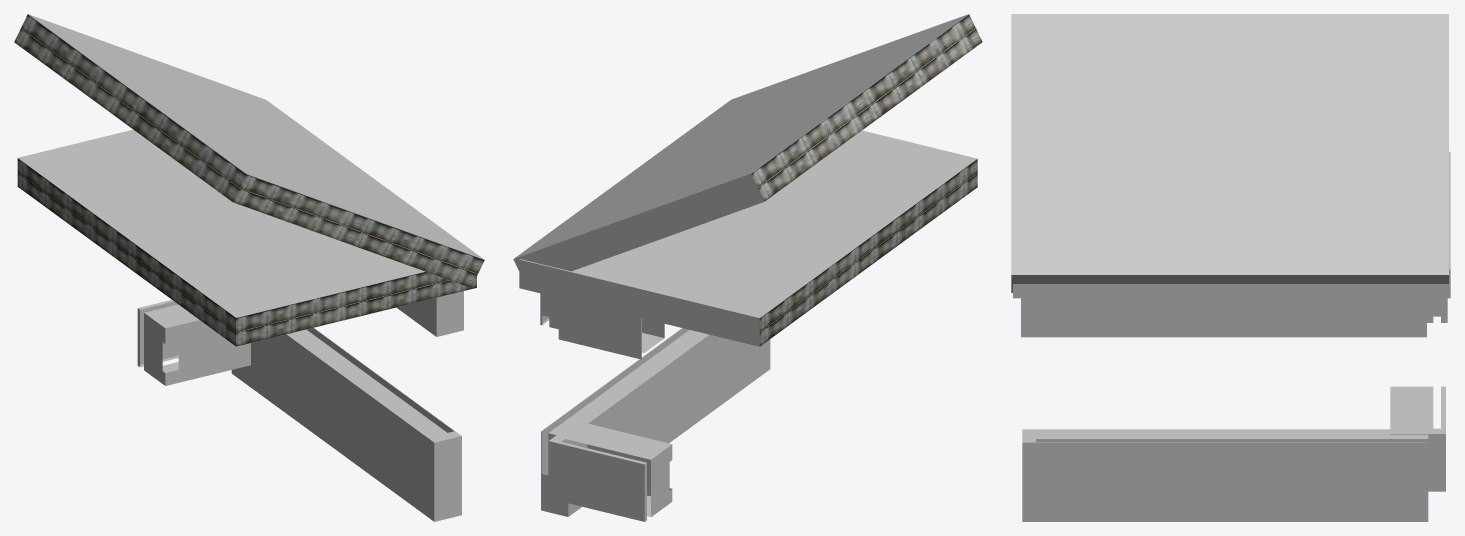
Rendered from room1.fbx.
3 views of the same model, side by side, from view 1: azimuth 30°, elevation 25°; view 2: azimuth 150°, elevation 25°; view 3: azimuth 270°, elevation 25° (orthographic).
Visible parts, largest first — view 1: Roof, Roof_37, WindowLedge, WindowStud_23, WindowStud; view 2: Roof, Roof_37, WindowLedge, WindowStud_23, WindowStud_22, WindowStud; view 3: Roof_37, WindowLedge, WindowStud, Roof, WindowStud_23.
Boxes of the visible parts, x1,y1,x2,y2 form: Roof: (17, 129, 476, 346); Roof_37: (14, 14, 484, 287); WindowLedge: (231, 327, 461, 521); WindowStud_23: (137, 300, 250, 385); WindowStud: (396, 291, 463, 336); Roof: (519, 130, 977, 346); Roof_37: (513, 14, 982, 271); WindowLedge: (541, 328, 770, 516); WindowStud_23: (548, 421, 672, 521); WindowStud_22: (558, 298, 664, 359); WindowStud: (540, 293, 558, 329); Roof_37: (1011, 14, 1448, 292); WindowLedge: (1022, 429, 1428, 521); WindowStud: (1021, 298, 1426, 337); Roof: (1013, 151, 1450, 298); WindowStud_23: (1390, 386, 1445, 491).
Bounding box in the file's own units: 1832 × 2760 × 2772.
